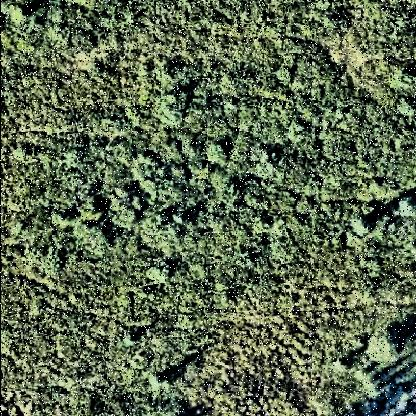tree-top: (137, 213, 179, 251), (78, 218, 118, 256), (370, 328, 406, 368), (14, 4, 45, 35), (79, 198, 110, 224), (206, 136, 232, 164), (357, 213, 377, 239), (397, 192, 416, 217), (150, 372, 170, 392), (124, 331, 140, 349)
